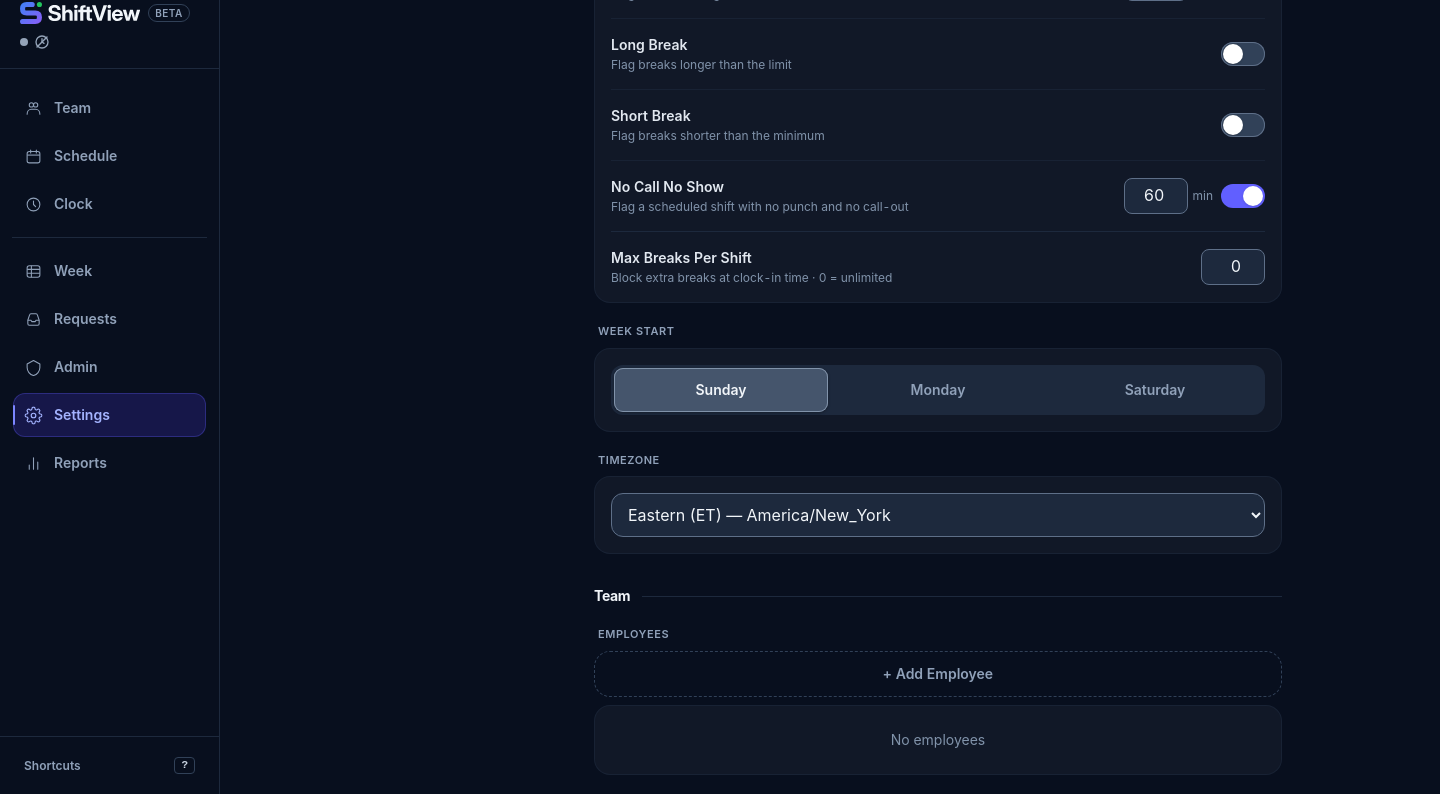
Scenario: SettingsPageClient — auto-save › Week Start › shows 'Saved ✓' after week start pill click succeeds
The width and height of the screenshot is (1440, 794).
(page scrolled)
What coordinates should you click on to do the following:
click the button "Monday"
I would click on:
 (938, 390)
Its box is [831,368,1045,412].
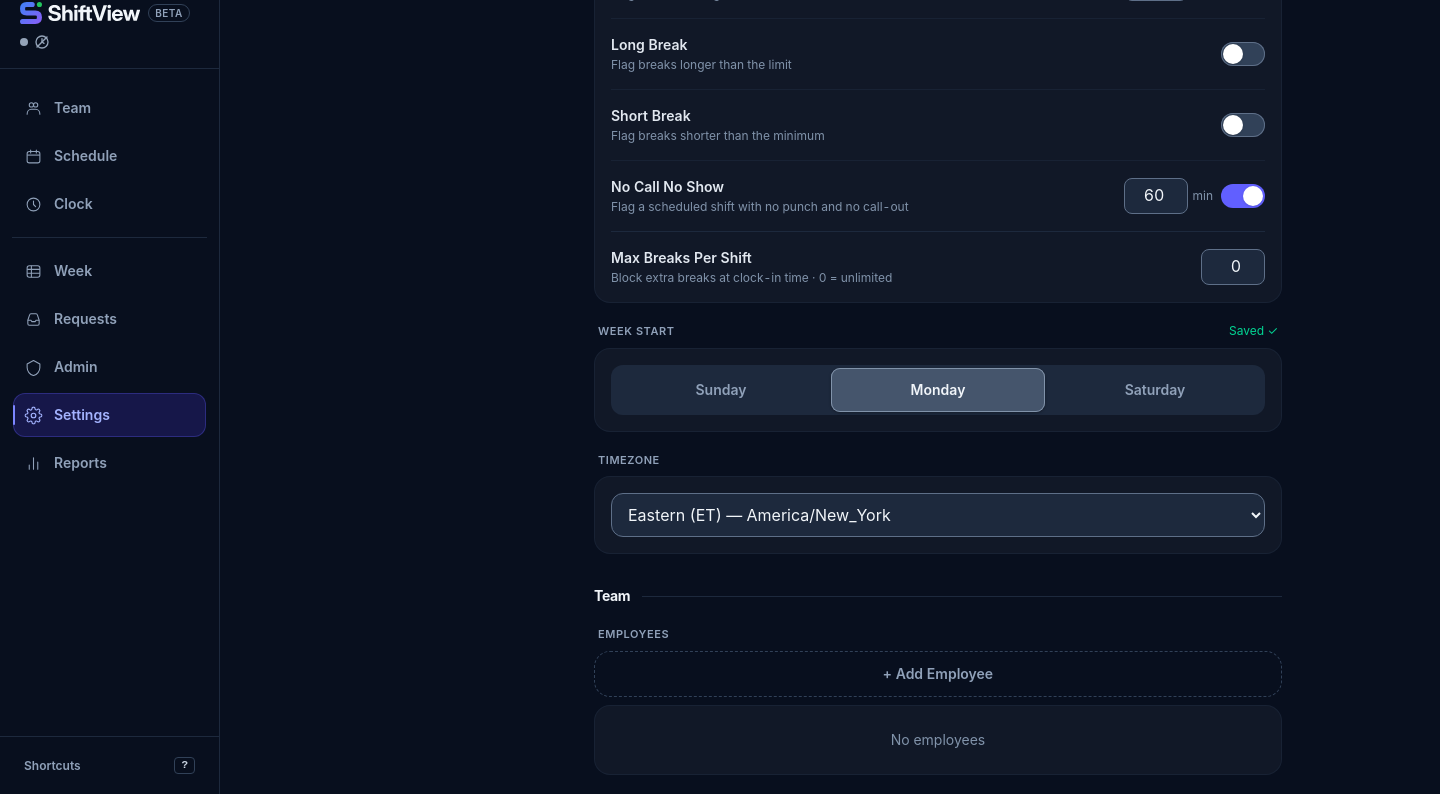
Expected: the element with test id "week-start-status" shows "Saved", [1229,323,1278,338]
